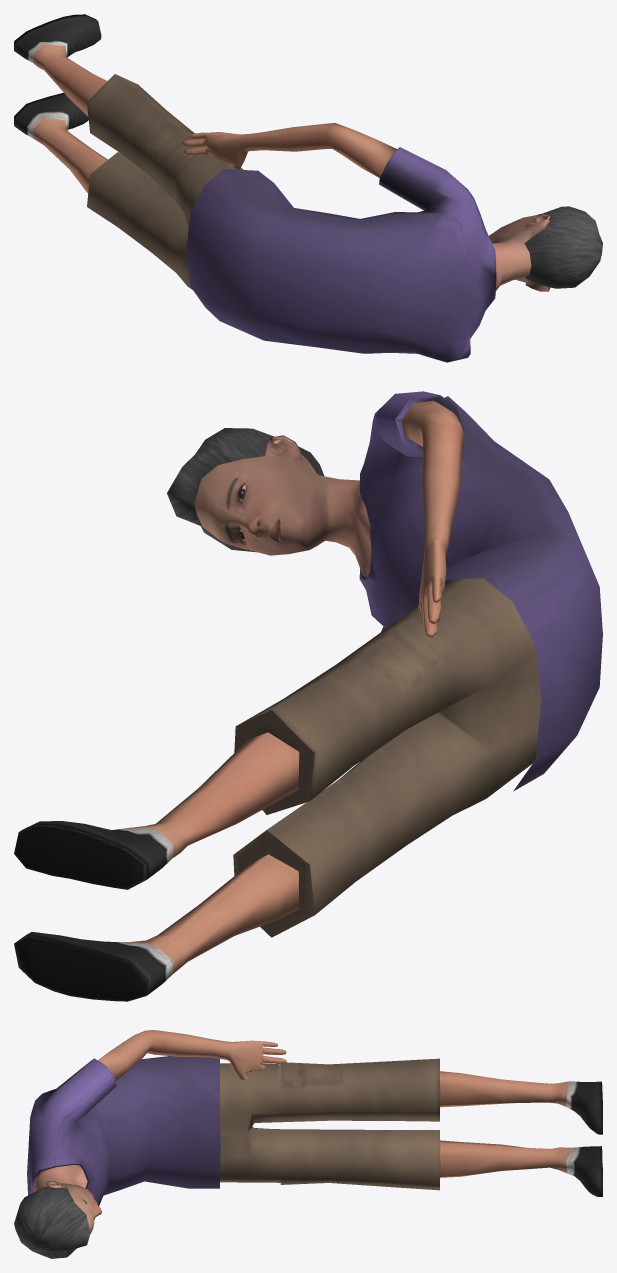
Rendered from man_leaning_waving.glb.
3 views of the same model, one above another, from view 1: azimuth 30°, elevation 25°; view 2: azimuth 150°, elevation 25°; view 3: azimuth 270°, elevation 25° (orthographic). The views are drawn at different scales.
Parts seen in each view (by area): view 1: world; view 2: world; view 3: world.
Boxes of the visible parts, x1,y1,x2,y2 form: world: [14, 14, 602, 362]; world: [14, 391, 602, 1001]; world: [14, 1030, 602, 1258].
Bounding box in the file's own units: 0.7669 × 0.486 × 1.37.
Materials: 1 (1 with a texture image).
